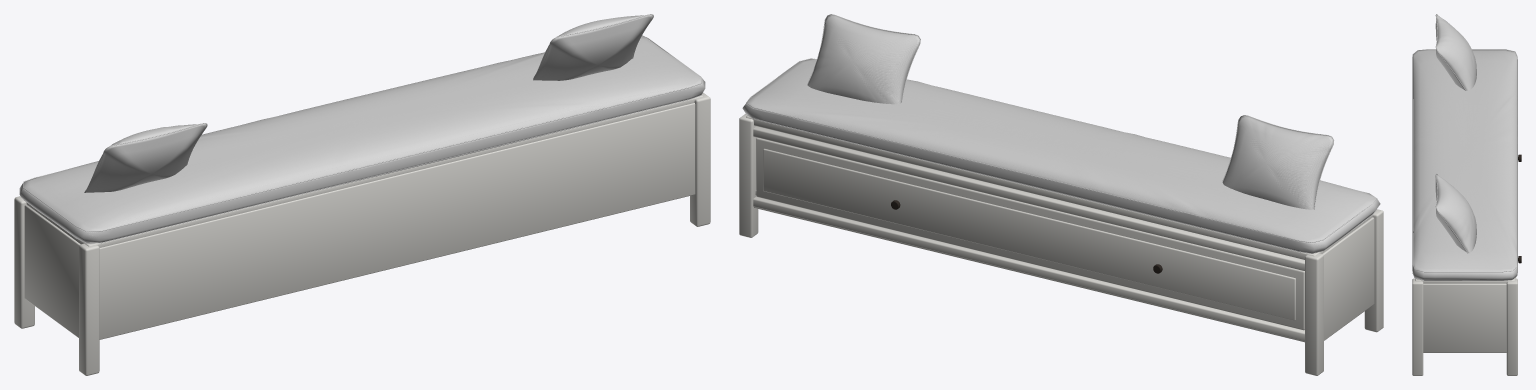
File: bench-storage-cushioned.glb
3 views of the same model, side by side, from view 1: azimuth 30°, elevation 25°; view 2: azimuth 150°, elevation 25°; view 3: azimuth 270°, elevation 25° (orthographic). The views are drawn at different scales.
Visible parts, largest first — view 1: Bench back panel, Long boxed seat cushion, Inset end panel, Loose hall cushion, Loose hall cushion.001, Lower rail and seat platform.001, Continuous corner post, Continuous corner post.002, Continuous corner post.001, Long boxed seat cushion · upper stitched edge, Long boxed seat cushion · lower stitched edge; view 2: Long boxed seat cushion, Recessed drawer panel, Wide inset drawer front, Loose hall cushion, Loose hall cushion.001, Front cross rail.001, Front cross rail, Inset end panel, Lower rail and seat platform.001, Continuous corner post.001, Continuous corner post.003, Continuous corner post (+3 smaller); view 3: Long boxed seat cushion, Inset end panel.001, Loose hall cushion.001, Loose hall cushion, Continuous corner post.002, Continuous corner post.003, Long boxed seat cushion · upper stitched edge, Lower rail and seat platform.001, Loose hall cushion · upper stitched edge.001.
Part boxes in pixels (x1,y1,x2,y2): Bench back panel: [99, 103, 695, 339]; Long boxed seat cushion: [19, 36, 705, 242]; Inset end panel: [24, 204, 80, 337]; Loose hall cushion: [85, 123, 206, 192]; Loose hall cushion.001: [533, 15, 652, 80]; Lower rail and seat platform.001: [26, 95, 703, 247]; Continuous corner post: [79, 243, 99, 375]; Continuous corner post.002: [690, 93, 710, 226]; Continuous corner post.001: [14, 196, 34, 328]; Long boxed seat cushion · upper stitched edge: [23, 35, 701, 231]; Long boxed seat cushion · lower stitched edge: [24, 95, 701, 243]; Long boxed seat cushion: [742, 58, 1380, 253]; Recessed drawer panel: [763, 148, 1295, 320]; Wide inset drawer front: [756, 137, 1304, 330]; Loose hall cushion: [1222, 115, 1333, 209]; Loose hall cushion.001: [807, 14, 919, 104]; Front cross rail.001: [753, 126, 1304, 270]; Front cross rail: [753, 196, 1304, 341]; Inset end panel: [1322, 217, 1374, 340]; Lower rail and seat platform.001: [746, 115, 1376, 259]; Continuous corner post.001: [1305, 253, 1323, 375]; Continuous corner post.003: [739, 114, 758, 237]; Continuous corner post: [1364, 209, 1383, 332]; Long boxed seat cushion: [1412, 49, 1517, 280]; Inset end panel.001: [1423, 283, 1506, 352]; Loose hall cushion.001: [1435, 174, 1476, 253]; Loose hall cushion: [1435, 15, 1476, 90]; Continuous corner post.002: [1412, 278, 1423, 375]; Continuous corner post.003: [1506, 278, 1517, 375]; Long boxed seat cushion · upper stitched edge: [1412, 49, 1517, 272]; Lower rail and seat platform.001: [1415, 278, 1514, 283]; Loose hall cushion · upper stitched edge.001: [1435, 173, 1468, 253].
Bounding box in the file's own units: 2.04 × 0.6502 × 0.4205.
3 materials, 1 textured.
